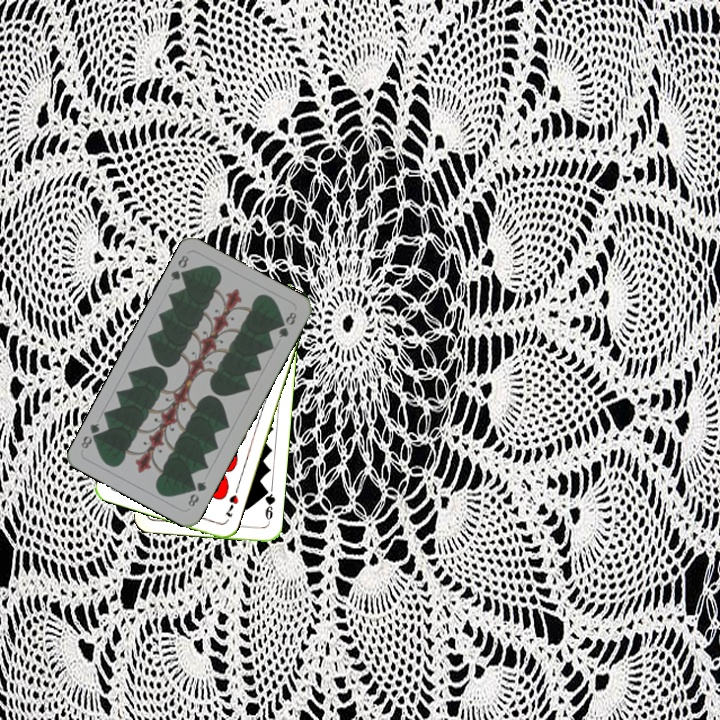G8: (166, 251, 192, 284), (184, 477, 209, 510)
G9: (260, 485, 277, 526)
H7: (221, 491, 241, 519)
